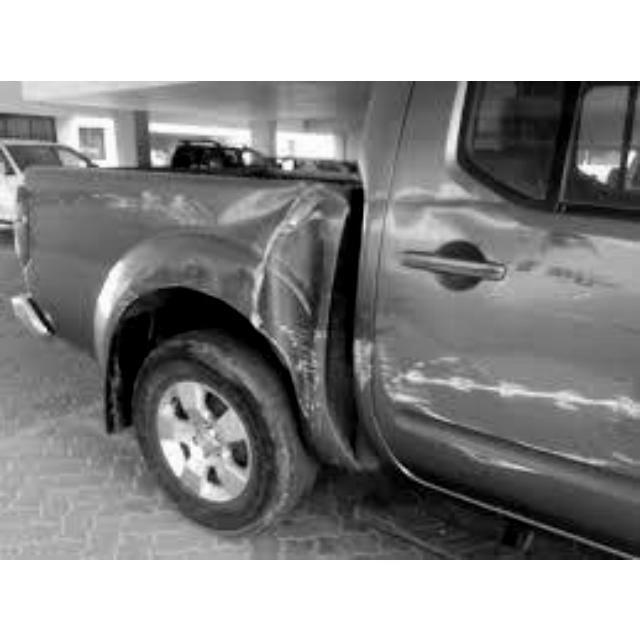doorouter-dent: (379, 199, 638, 488)
quaterpanel-dent: (43, 174, 312, 312)
